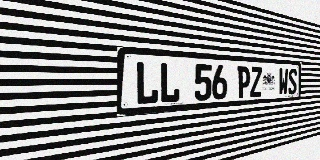5: (195, 64, 212, 101)
6: (212, 65, 227, 100)
L: (135, 61, 159, 105), (159, 62, 180, 104)
P: (237, 66, 250, 98)
S: (288, 68, 297, 95)
W: (278, 68, 288, 95)
Z: (250, 67, 262, 97)
